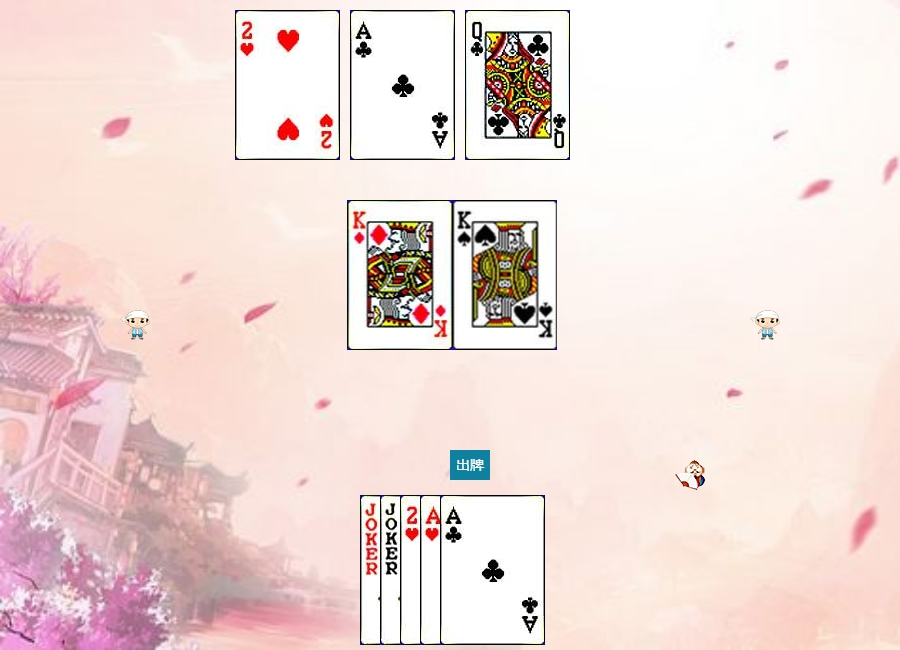12~2: (465, 10, 570, 160)
13~1: (348, 200, 453, 350)
13~4: (453, 200, 558, 350)
14~2: (350, 10, 455, 160), (440, 495, 545, 645)
14~3: (420, 495, 525, 645)
15~3: (235, 10, 340, 160), (400, 495, 505, 645)
17~3: (380, 495, 485, 645)
18~4: (360, 495, 465, 645)
